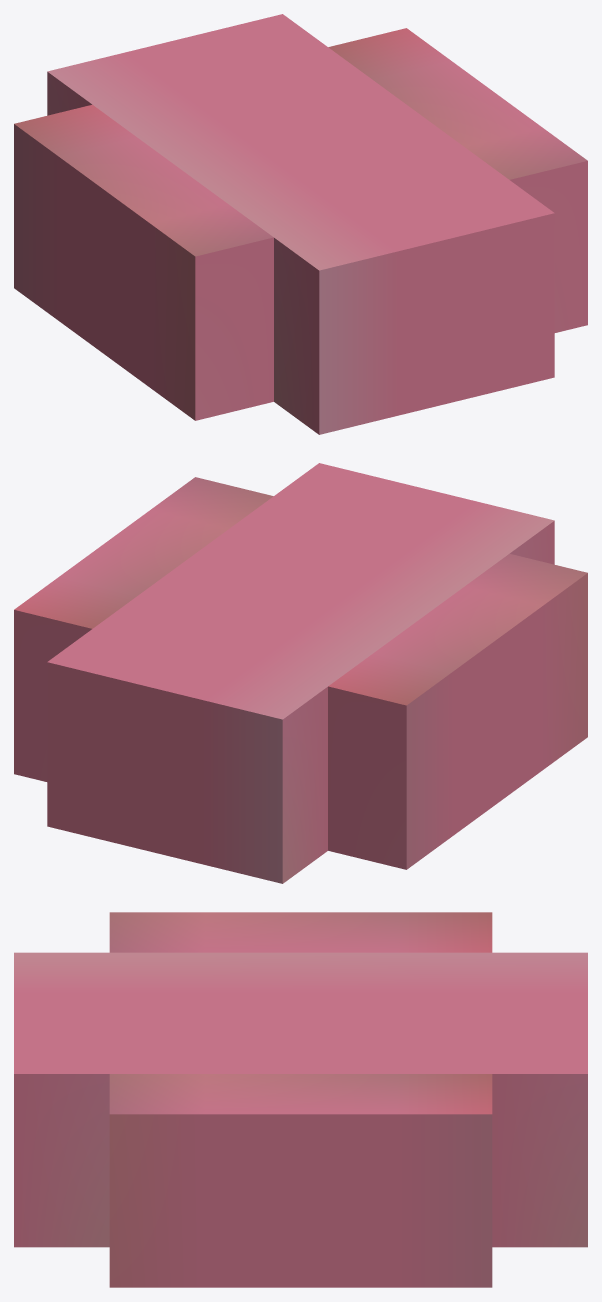
File: PillowSmallPink_03.obj
The picture shows the model from 3 angles, top to bottom: view 1: azimuth 30°, elevation 25°; view 2: azimuth 150°, elevation 25°; view 3: azimuth 270°, elevation 25°; orthographic projection. The views are drawn at different scales.
Parts seen in each view (by area): view 1: PillowSmallPink_03; view 2: PillowSmallPink_03; view 3: PillowSmallPink_03.
Boxes of the visible parts, left/top/right/bottom form: PillowSmallPink_03: left=14, top=14, right=587, bottom=434; PillowSmallPink_03: left=14, top=463, right=587, bottom=883; PillowSmallPink_03: left=14, top=912, right=587, bottom=1287.
Bounding box in the file's own units: 0.25 × 0.1 × 0.3.
